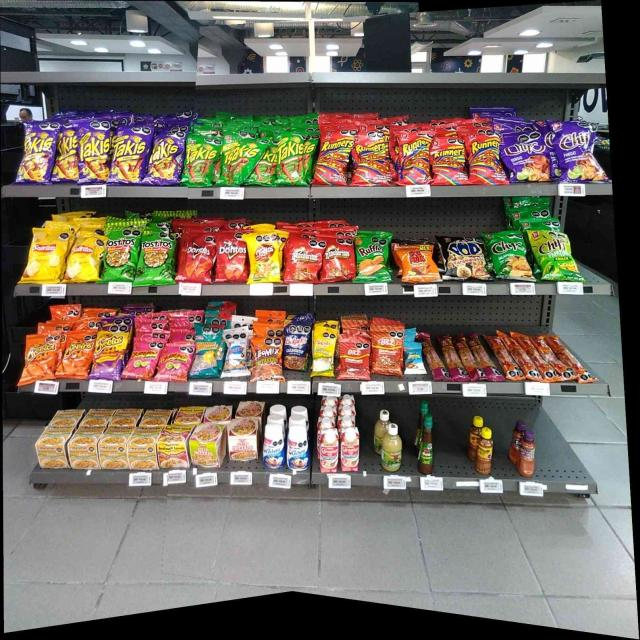bitzAlmendras: (403, 342, 425, 377)
bitzEnchilado90: (502, 329, 576, 381), (338, 335, 370, 382), (374, 325, 402, 375)
bitzHabanero: (428, 332, 480, 382)
bokadosCacahuates: (284, 314, 311, 369)
botaneraChilito: (475, 425, 495, 477)
cheetosFlaminHot: (95, 327, 124, 380)
cheetosOriginal: (22, 334, 56, 384), (64, 332, 91, 379)
chipsFuego: (553, 123, 608, 186), (505, 132, 549, 184)
chipsJalapeno: (488, 232, 524, 280)
chipsPapatinas: (538, 230, 574, 282)
churrumais: (128, 336, 158, 382), (162, 341, 188, 382)
delPrimoSalsa: (382, 422, 403, 474)
doritosNacho: (216, 235, 246, 283), (186, 236, 213, 282)
fritosLimon: (248, 232, 284, 284)
hotNutsOriginal: (392, 240, 438, 284)
leoCacahuates: (224, 329, 248, 378)
leoMix: (251, 334, 283, 382)
maruchanPollo: (36, 425, 67, 471), (69, 426, 96, 470), (130, 428, 156, 469), (100, 429, 125, 471)
maruchanRes: (158, 426, 187, 470)
nestleCarnation: (319, 430, 339, 475), (341, 428, 360, 470)
nestleLechera: (288, 424, 310, 474), (264, 426, 285, 470)
nissinCamaron: (190, 426, 223, 468)
nissinRes: (228, 421, 257, 461)
popKarameladas: (443, 236, 485, 282)
rancheritos: (286, 236, 320, 284), (326, 241, 353, 281)
rufflesQueso: (357, 232, 388, 282)
runners: (354, 134, 391, 188), (395, 131, 429, 183), (467, 134, 502, 181), (320, 133, 350, 185), (433, 136, 462, 185)
sabritasOriginal: (28, 226, 66, 284), (70, 230, 100, 284)
salsaBufalo: (416, 413, 436, 473)
semillasCalabaza: (314, 330, 334, 378)
semillasGirasol: (194, 325, 221, 378)
tajinDulce: (521, 433, 537, 477)
takisFuego: (115, 126, 146, 186), (149, 130, 181, 185), (23, 122, 50, 184), (79, 128, 108, 182), (58, 130, 74, 180)
takisOriginal: (276, 128, 310, 184), (184, 134, 217, 186), (230, 140, 257, 182)
tostitos: (104, 222, 135, 282), (141, 229, 171, 283)
